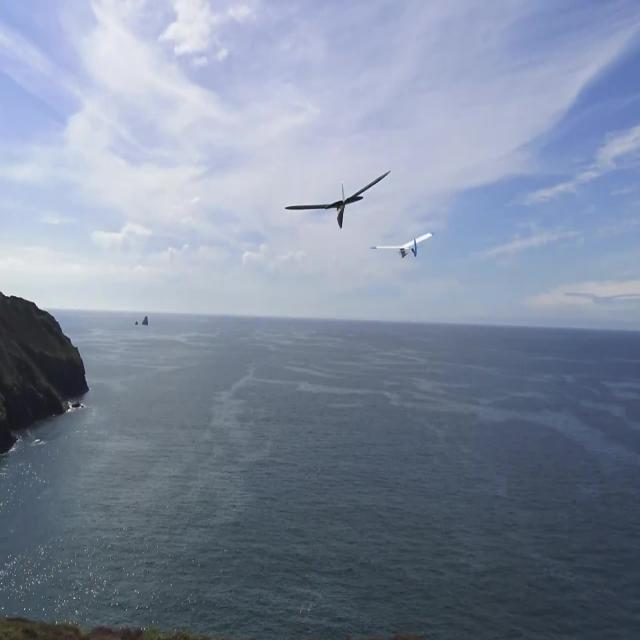iha: (316, 162, 359, 222), (402, 231, 402, 260)
